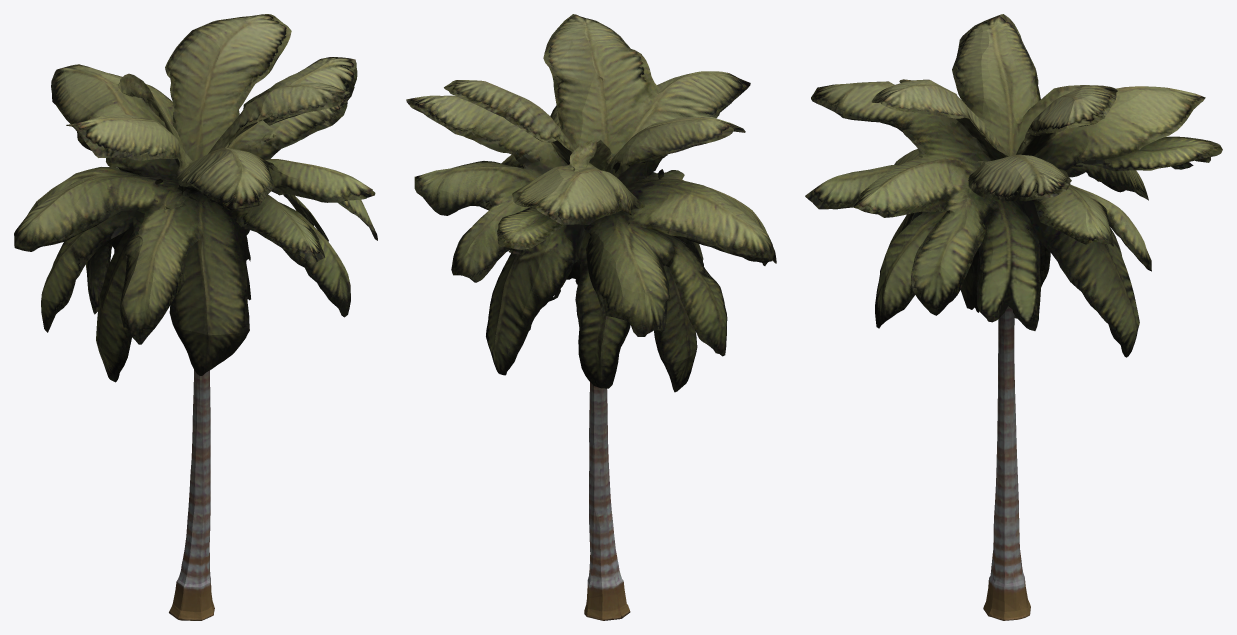
File: tree_palm.glb
3 views of the same model, side by side, from view 1: azimuth 30°, elevation 25°; view 2: azimuth 150°, elevation 25°; view 3: azimuth 270°, elevation 25° (orthographic). The views are drawn at different scales.
Parts seen in each view (by area): view 1: world; view 2: world; view 3: world.
Part boxes in pixels (x1=…): world: x1=14, y1=14, x2=377, y2=620; world: x1=406, y1=14, x2=776, y2=620; world: x1=805, y1=14, x2=1222, y2=620.
Bounding box in the file's own units: 0.6862 × 0.9997 × 0.678.
1 material, 1 textured.
